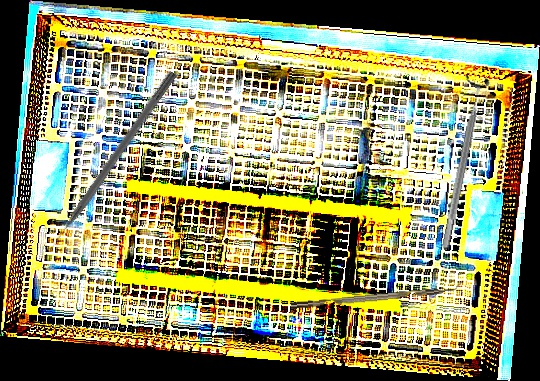Chopper: (290, 279, 463, 309)
Fixation Ring: (431, 73, 493, 252)
Pusher: (44, 69, 178, 253)
